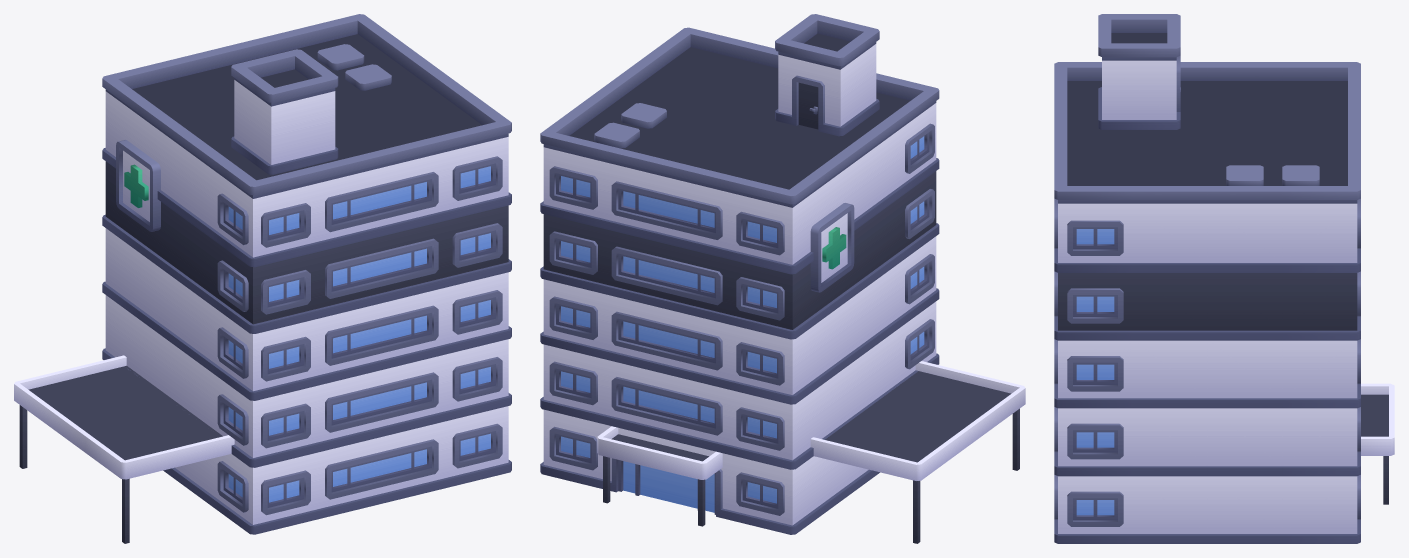
File: neon_block_n.glb
3 renders of one model, left to right at view 1: azimuth 30°, elevation 25°; view 2: azimuth 150°, elevation 25°; view 3: azimuth 270°, elevation 25°, orthographic. The views are drawn at different scales.
Parts seen in each view (by area): view 1: building-n; view 2: building-n; view 3: building-n.
Boxes of the visible parts, x1,y1,x2,y2 form: building-n: (14, 14, 511, 543); building-n: (540, 14, 1025, 543); building-n: (1054, 14, 1394, 543).
Size of the model in its own units: 15.2 by 16.25 by 11.92.
Materials: 1 (1 with a texture image).
